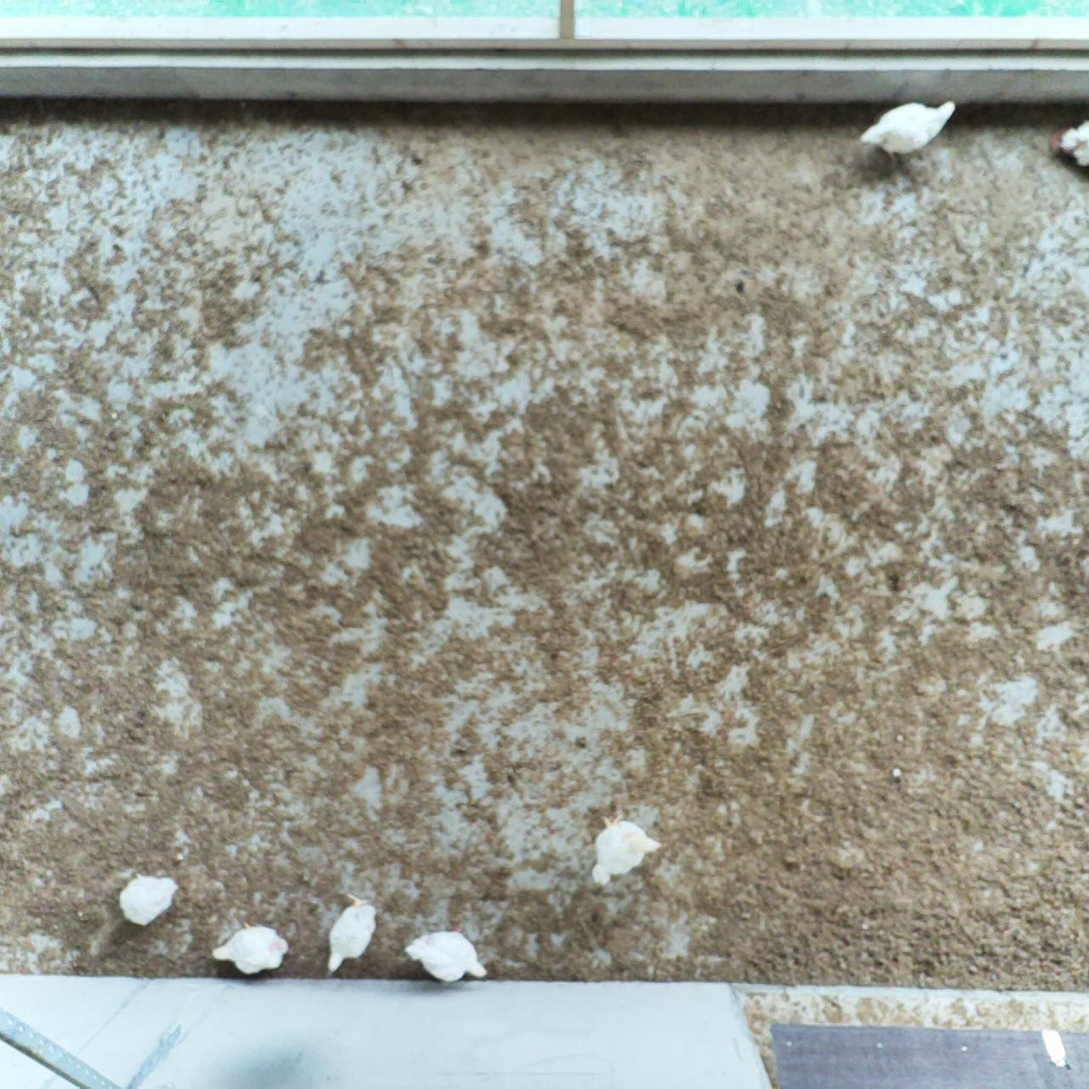chicken: (855, 89, 960, 169), (583, 805, 662, 893), (403, 923, 492, 986), (323, 886, 383, 975), (209, 914, 290, 979), (114, 870, 181, 929), (1053, 114, 1089, 171)
